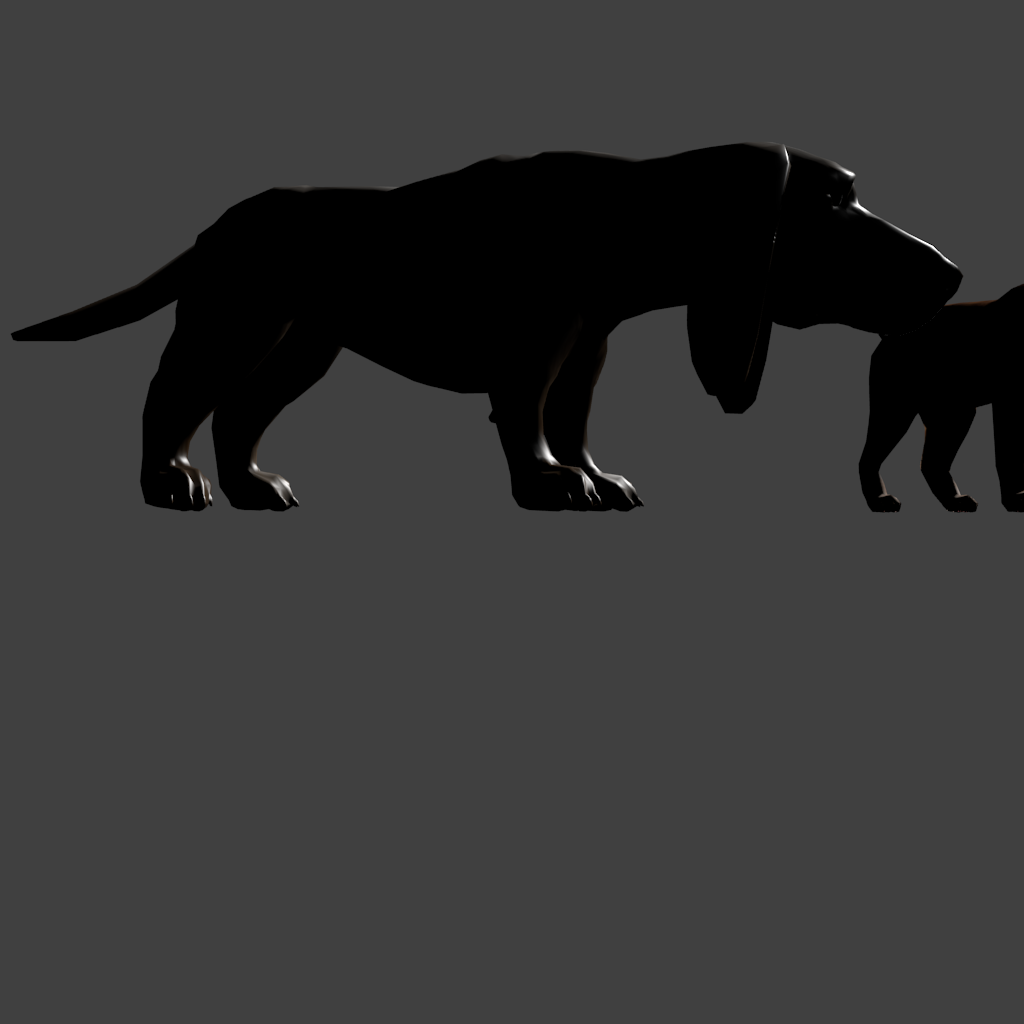Dog: (0, 0, 1024, 1024), (10, 142, 953, 370)
